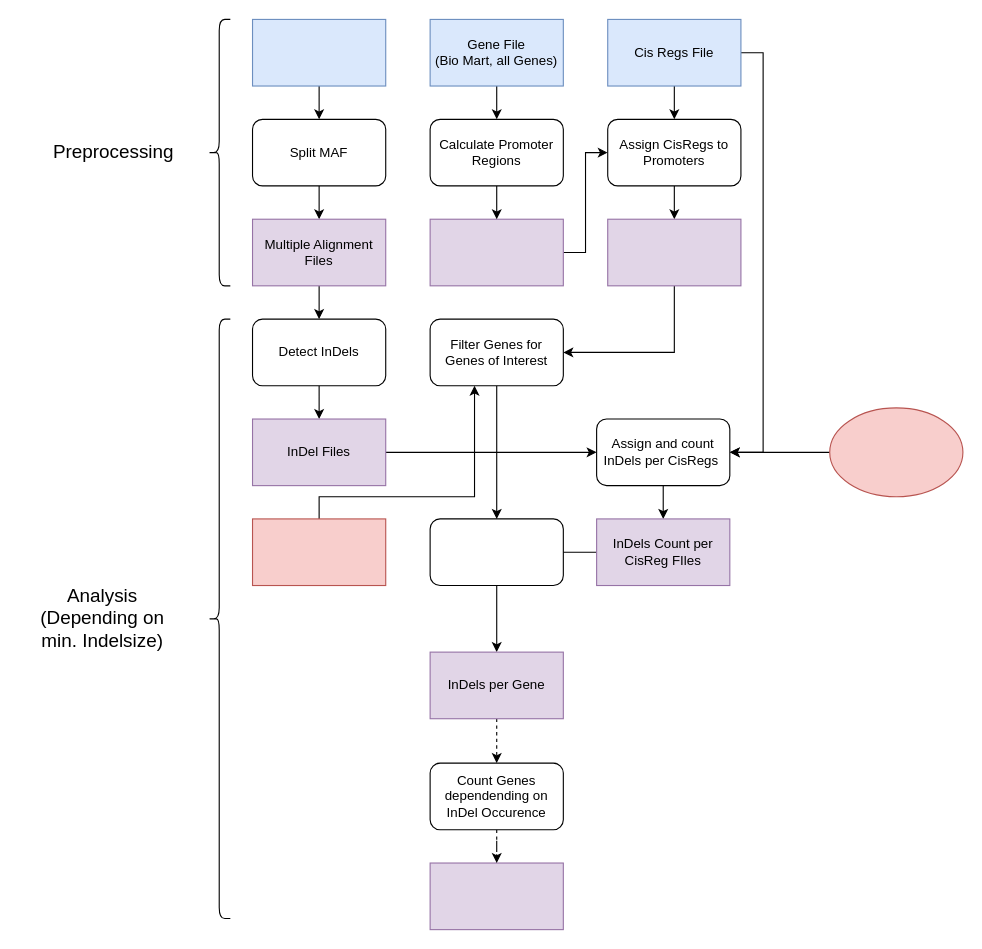
Some shapes in this 982 by 949 pixel diagram are drawn without their labels. The shapes that lost their labels are listed below. From the top down, each one's centre as x and y in pixels, then its label:
the point at 318,52: Multiple Alignment File
the point at 496,252: Gene Promoter Regions File
the point at 674,252: Gene to Cis Regs Dictionary
the point at 896,452: Minimum InDel Size
the point at 318,552: Genes of Interest Input File
the point at 496,552: Summarize and Assign CisRegs per Gene
the point at 496,896: InDels per Gene Summary
